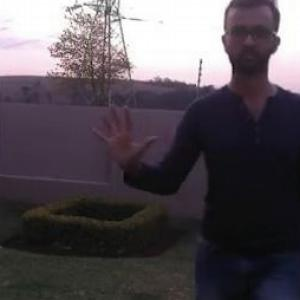follow_hand: (85, 98, 156, 168)
